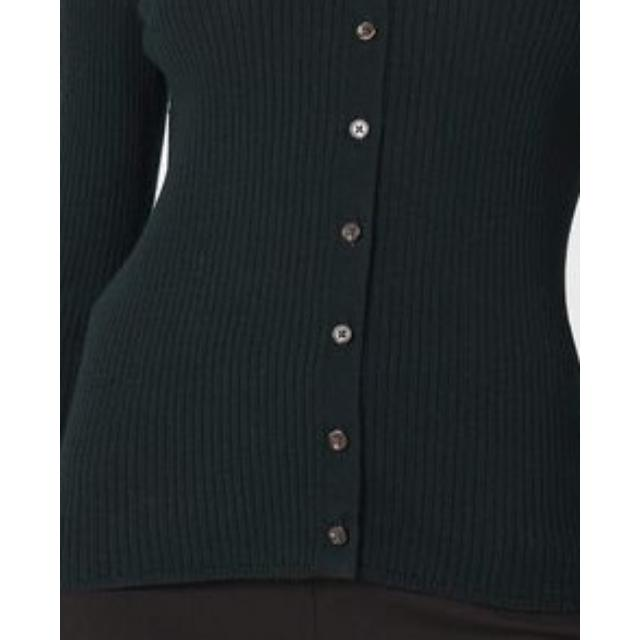wool: (60, 1, 580, 614)
